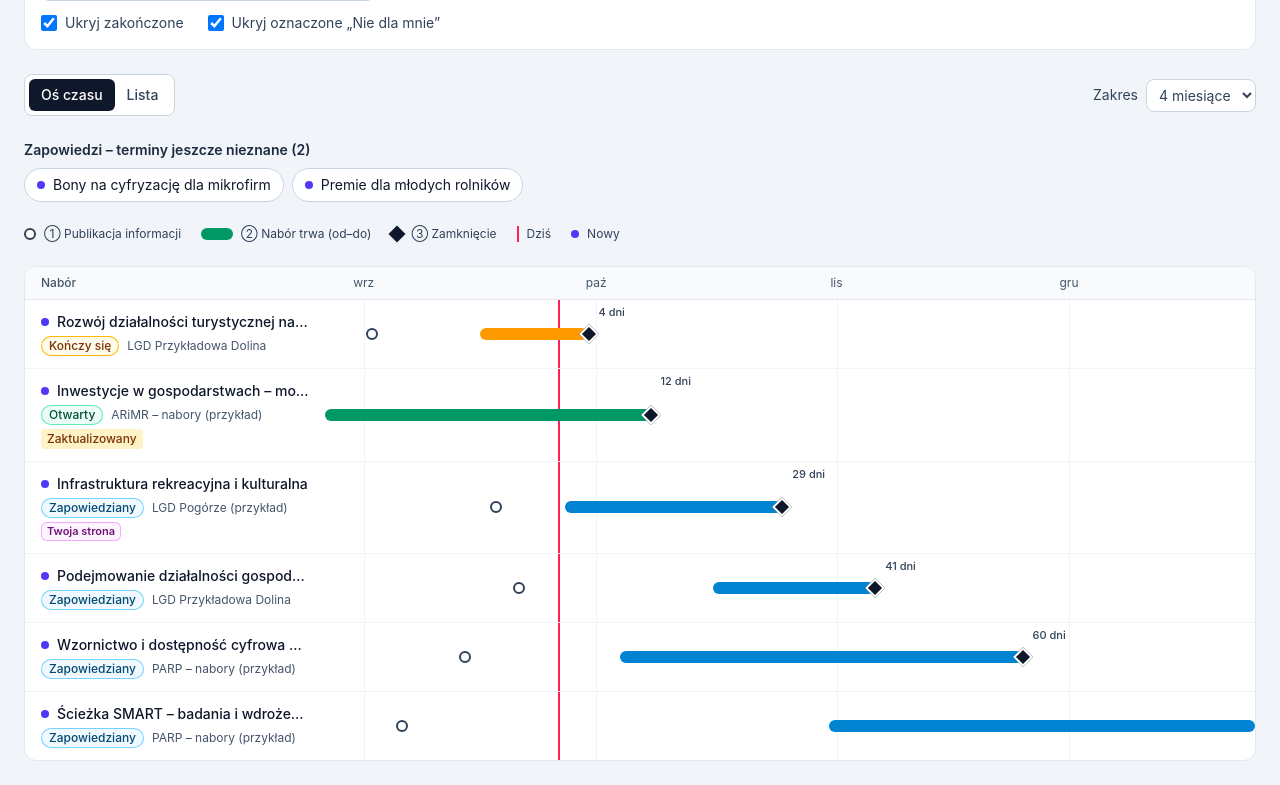
Test case: Radar Grantów – scenariusze z PRD › modal pokazuje najważniejsze informacje i oznaczenie „Sprawdź” dla niepewnych pól
(page scrolled)
Click the button "Podejmowanie działalności gospodarczej": click(195, 575) [25, 554, 1255, 622]
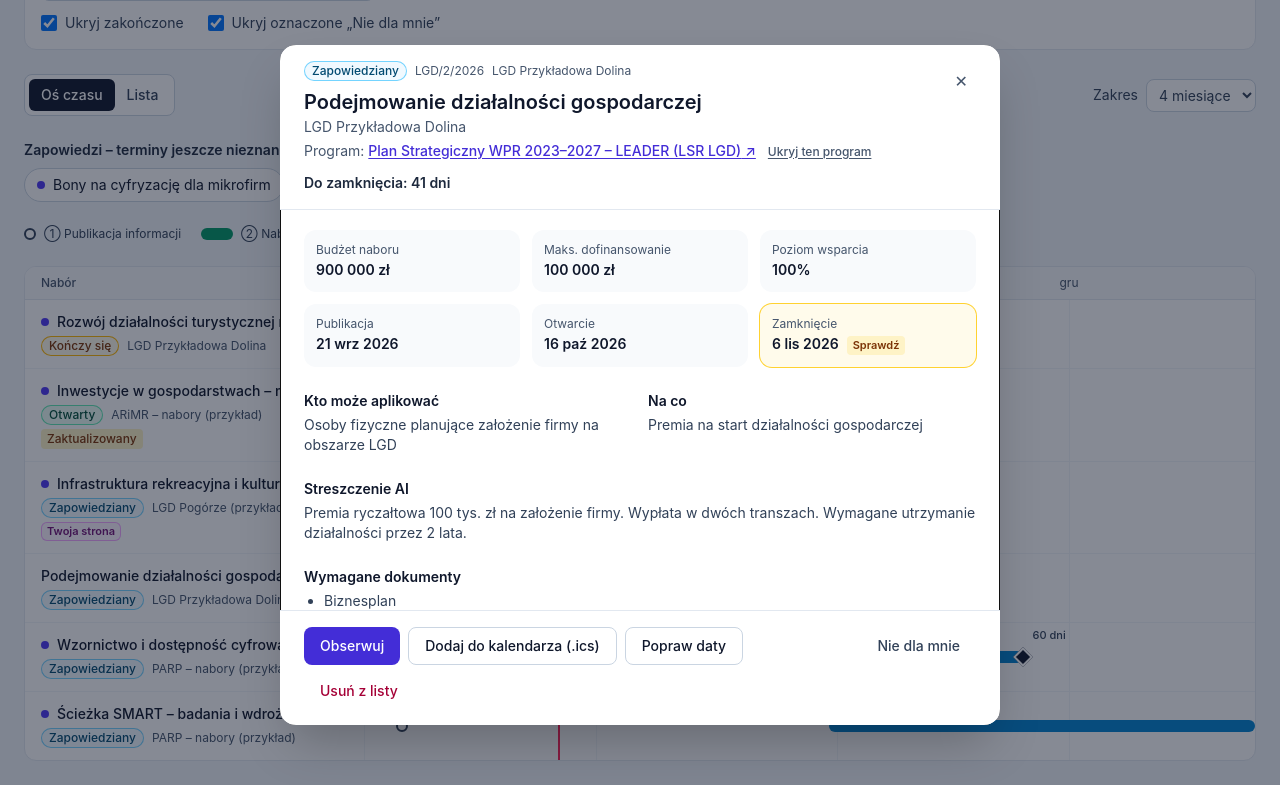
Now the text "Maks. dofinansowanie" is shown, box [544, 242, 671, 256]
Now the heading "Kto może aplikować" is shown, box [304, 392, 439, 409]
Now the text "Sprawdź" is shown, box [847, 336, 906, 355]
